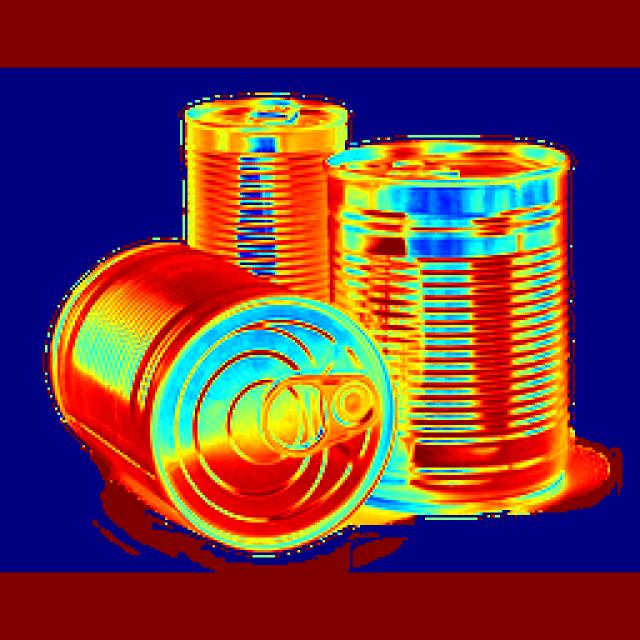Aluminium Food Cans: (38, 237, 394, 550), (317, 151, 601, 479), (173, 91, 337, 278)
